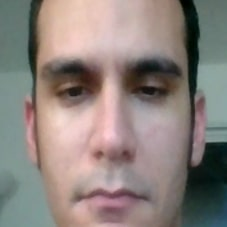drowsy: (38, 52, 187, 216)
